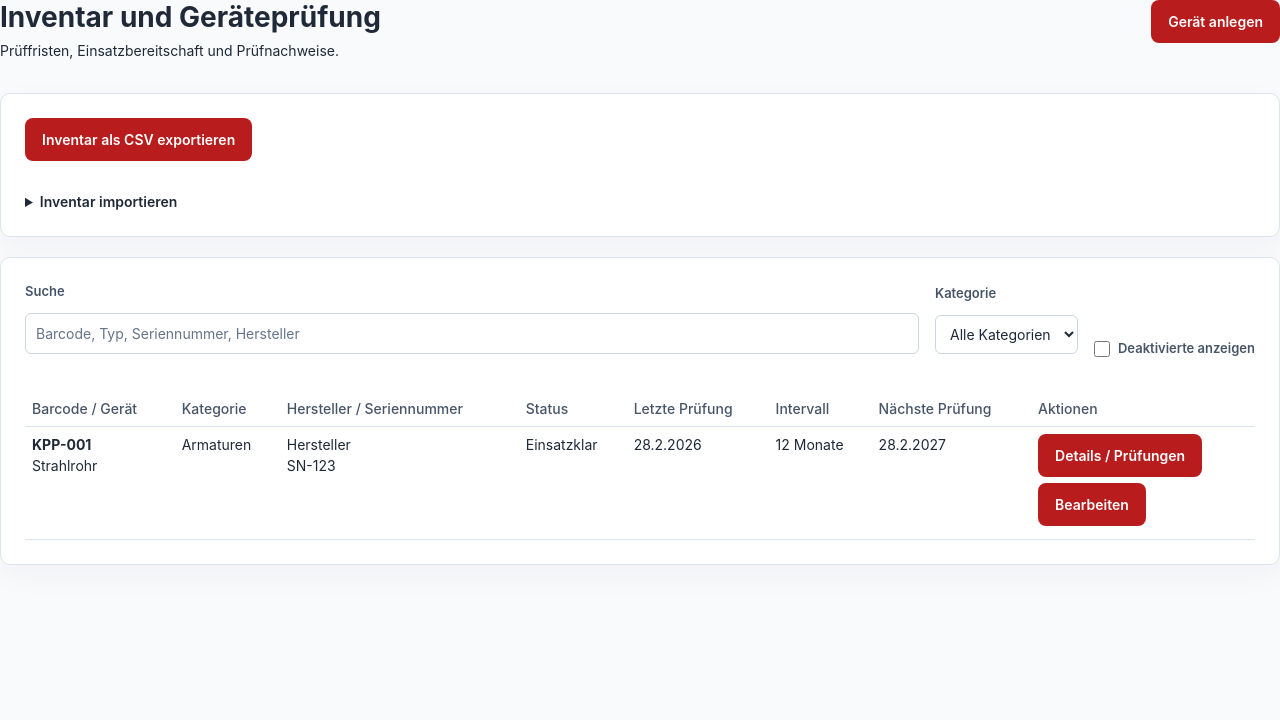
Test: deactivates with a version and hides the maintenance form afterwards
Click the button with aria-label "KPP-001 anzeigen" at (1120, 455), box [1038,434,1202,476]
(page scrolled)
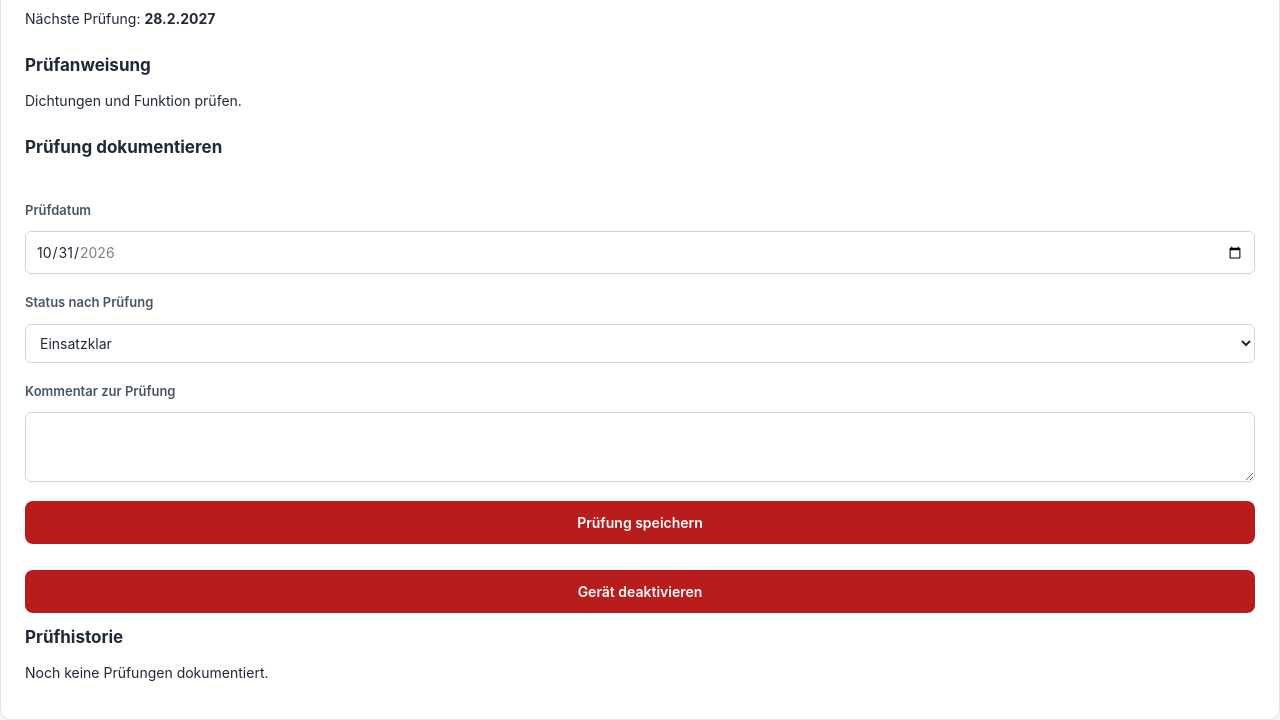
Click the button "Gerät deaktivieren" at (640, 592), box [25,570,1255,613]
(page scrolled)
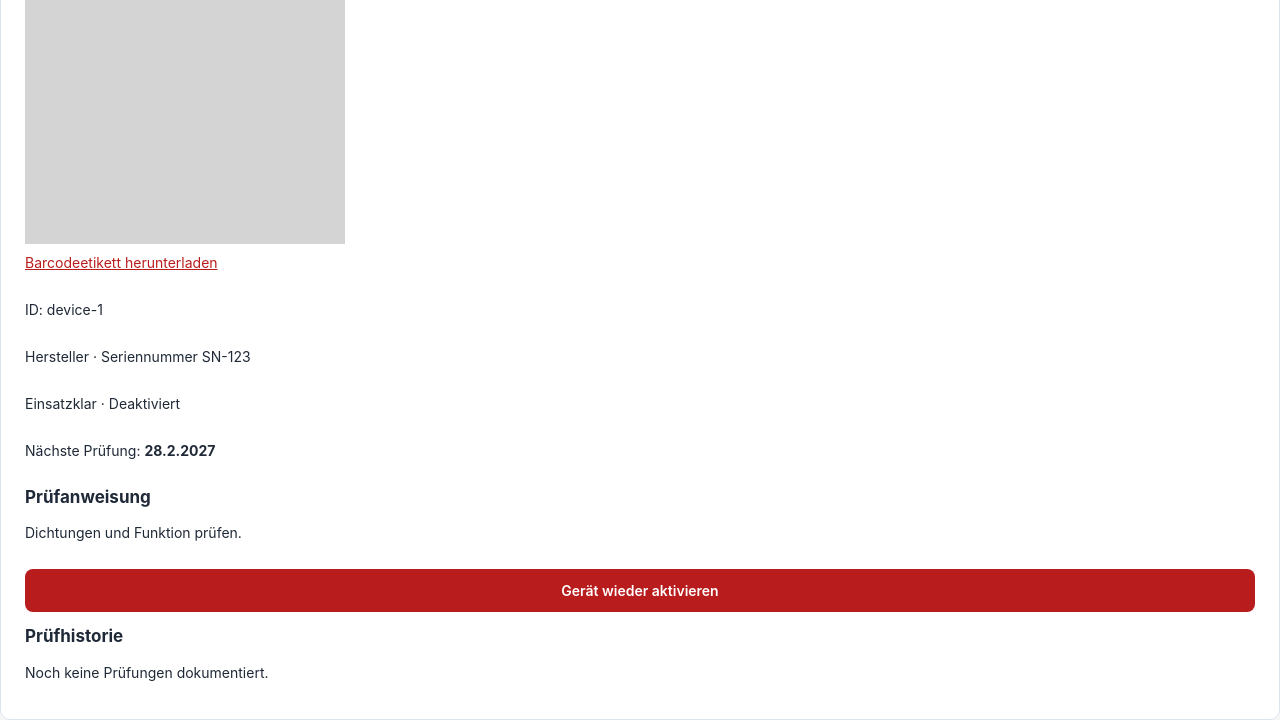
expect the button "Gerät wieder aktivieren" is shown: met, box [25,569,1255,612]
expect the button "Prüfung speichern" is gone: met
